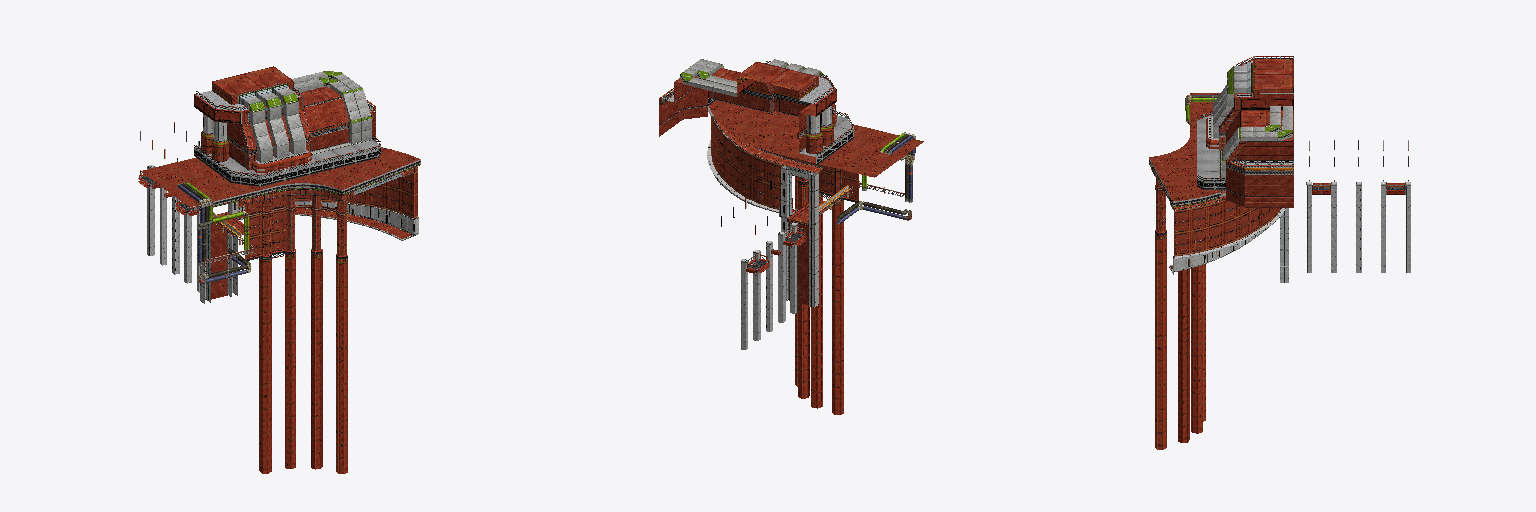
3 renders of one model, left to right at view 1: azimuth 30°, elevation 25°; view 2: azimuth 150°, elevation 25°; view 3: azimuth 270°, elevation 25°, orthographic.
Visible parts, largest first — view 1: polygon49, polygon4, polygon29, polygon40, polygon23, polygon9, polygon46, polygon54, polygon15, polygon38, polygon43, polygon58 (+10 smaller); view 2: polygon49, polygon4, polygon9, polygon23, polygon40, polygon51, polygon38, polygon54, polygon29, polygon7, polygon15, polygon58; view 3: polygon49, polygon9, polygon40, polygon4, polygon23, polygon29, polygon38, polygon14, polygon44, polygon37, polygon51, polygon30 (+1 smaller).
Part boxes in pixels (x1,y1,x2,y2): polygon49: (259,256,347,473); polygon4: (141,147,419,206); polygon29: (243,72,371,162); polygon40: (227,97,375,166); polygon23: (147,167,199,292); polygon9: (238,171,417,218); polygon46: (262,195,346,255); polygon54: (177,182,250,283); polygon15: (211,208,411,299); polygon38: (212,66,341,105); polygon43: (194,147,380,186); polygon58: (245,196,285,258); polygon49: (795,176,843,414); polygon4: (709,100,923,177); polygon9: (711,116,782,209); polygon23: (741,225,797,349); polygon40: (659,82,832,152); polygon51: (781,166,818,307); polygon38: (659,62,818,138); polygon54: (837,132,915,224); polygon29: (684,59,823,96); polygon7: (713,116,823,173); polygon15: (788,209,808,304); polygon58: (819,166,858,199); polygon49: (1155,237,1205,449); polygon9: (1174,199,1281,257); polygon40: (1219,107,1293,207); polygon4: (1149,93,1222,201); polygon23: (1307,186,1410,272); polygon29: (1213,66,1292,179); polygon38: (1241,59,1293,140); polygon14: (1169,208,1285,274); polygon44: (1197,116,1218,181); polygon37: (1197,56,1293,181); polygon51: (1280,208,1288,282); polygon30: (1222,63,1292,160).
Bounding box in the file's own units: 1144 × 1753 × 1167.
42 materials, 31 textured.